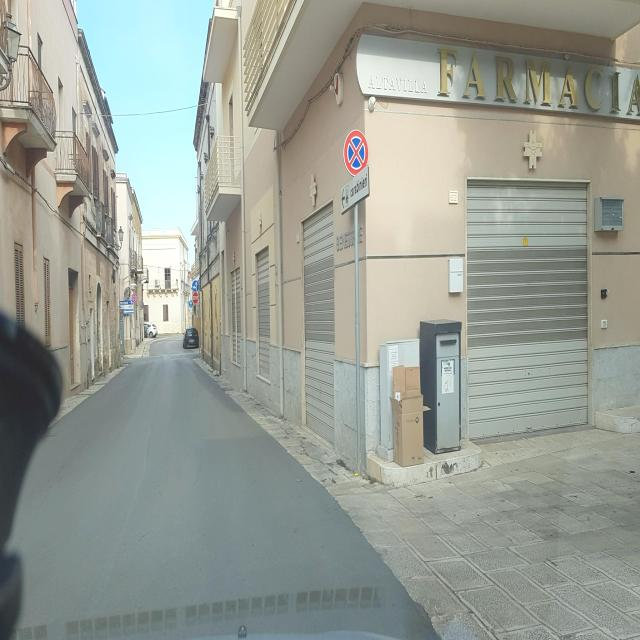car: (182, 326, 200, 350), (143, 319, 158, 338)
